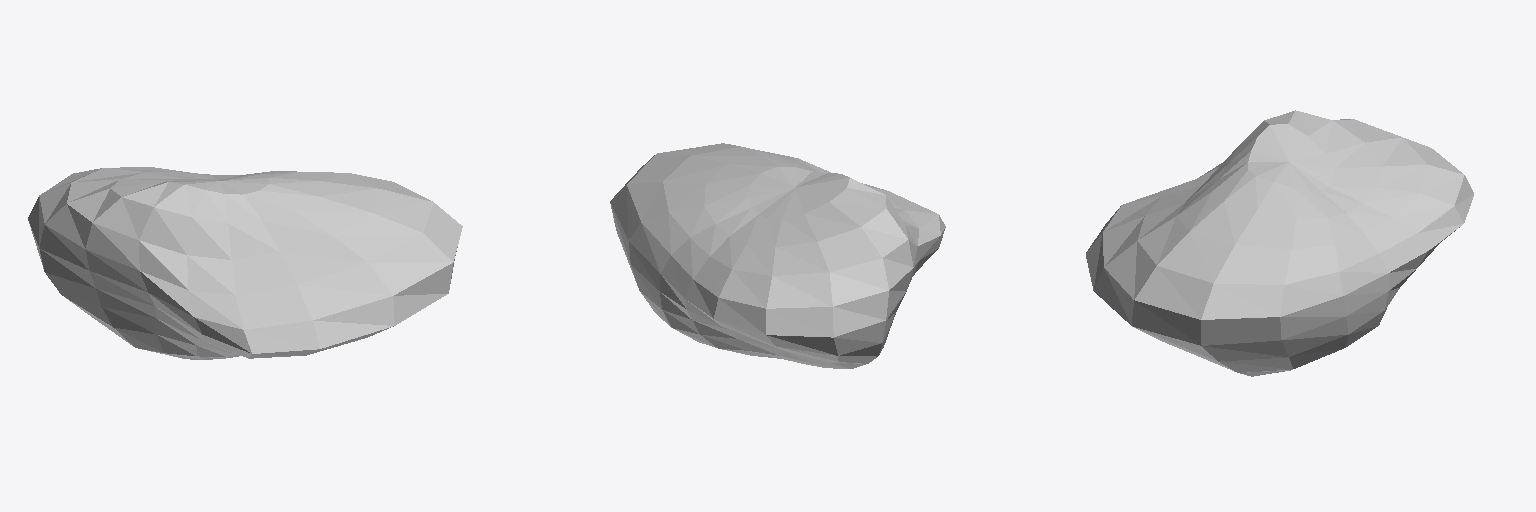
The model's file is rock1.Obj.
3 renders of one model, left to right at view 1: azimuth 30°, elevation 25°; view 2: azimuth 150°, elevation 25°; view 3: azimuth 270°, elevation 25°, orthographic.
Visible parts, largest first — view 1: default; view 2: default; view 3: default.
Part boxes in pixels (bbox=[...]): default: bbox=[28, 167, 462, 359]; default: bbox=[610, 143, 945, 368]; default: bbox=[1086, 110, 1473, 376].
Bounding box in the file's own units: 1.08 × 0.5757 × 1.08.